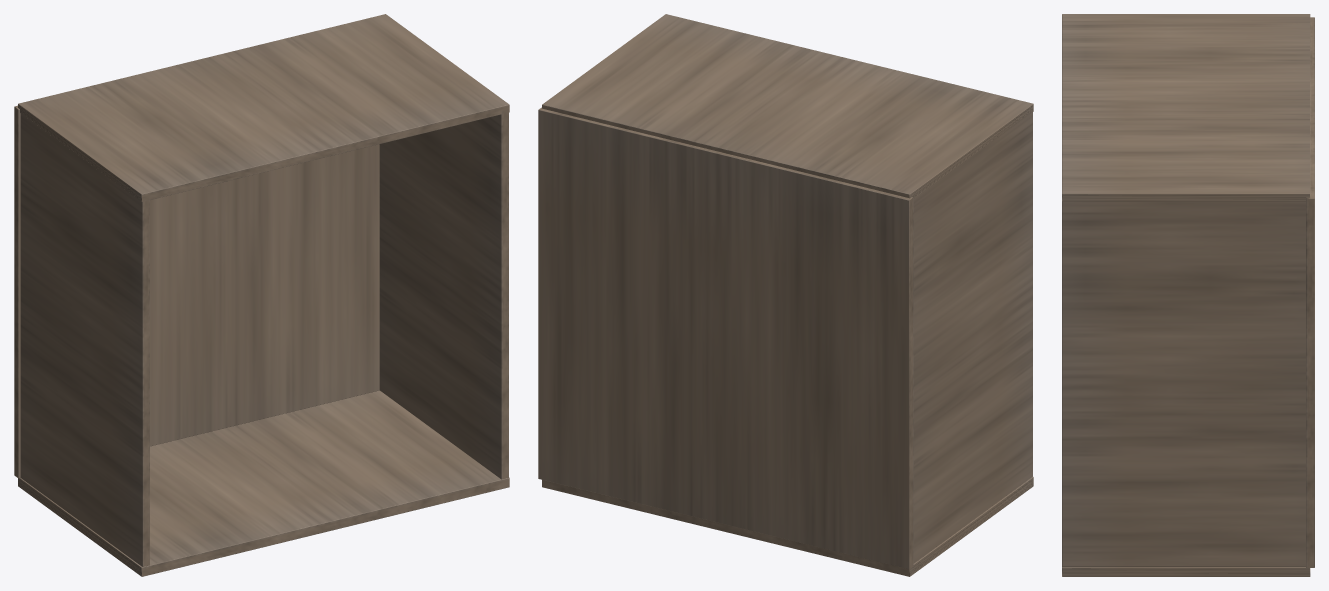
Rendered from BW_Merchant01_ServingRecess.fbx.
3 renders of one model, left to right at view 1: azimuth 30°, elevation 25°; view 2: azimuth 150°, elevation 25°; view 3: azimuth 270°, elevation 25°, orthographic.
Visible parts, largest first — view 1: BW_Merchant01_ServingRecess; view 2: BW_Merchant01_ServingRecess; view 3: BW_Merchant01_ServingRecess.
Part boxes in pixels (<box>): BW_Merchant01_ServingRecess: <box>14,14,509,576</box>; BW_Merchant01_ServingRecess: <box>538,14,1033,576</box>; BW_Merchant01_ServingRecess: <box>1062,14,1314,576</box>.
Size of the model in its own units: 2.42 by 2.39 by 1.43.
